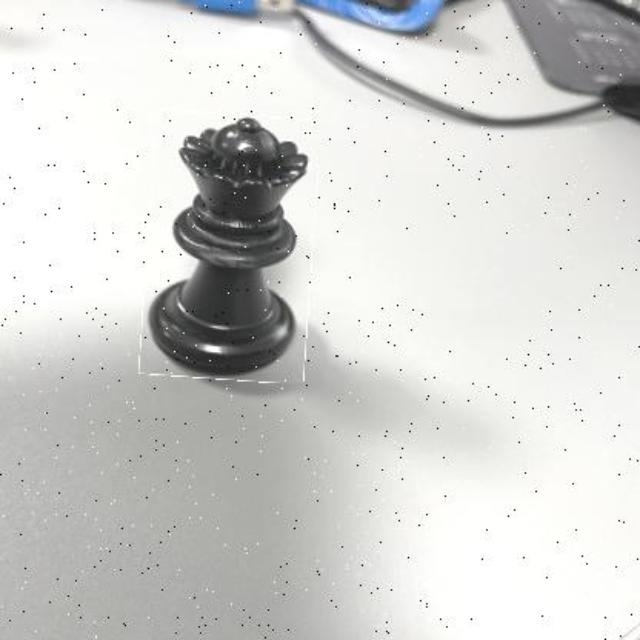black-queen: (143, 113, 316, 382)
